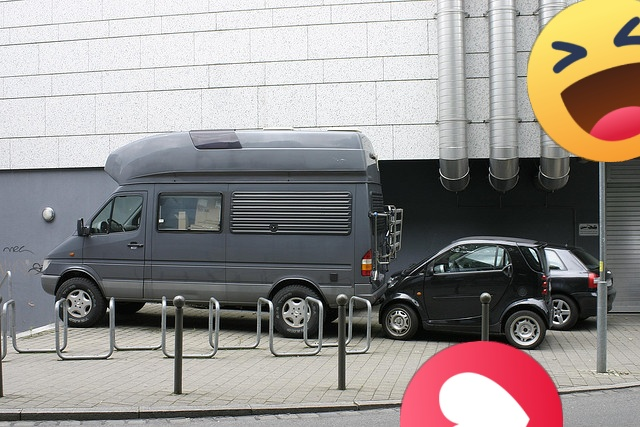haha: (527, 0, 640, 162)
love: (400, 341, 563, 427)
